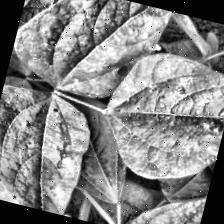ALS: (4, 0, 193, 120), (93, 42, 224, 194), (0, 80, 97, 217)
